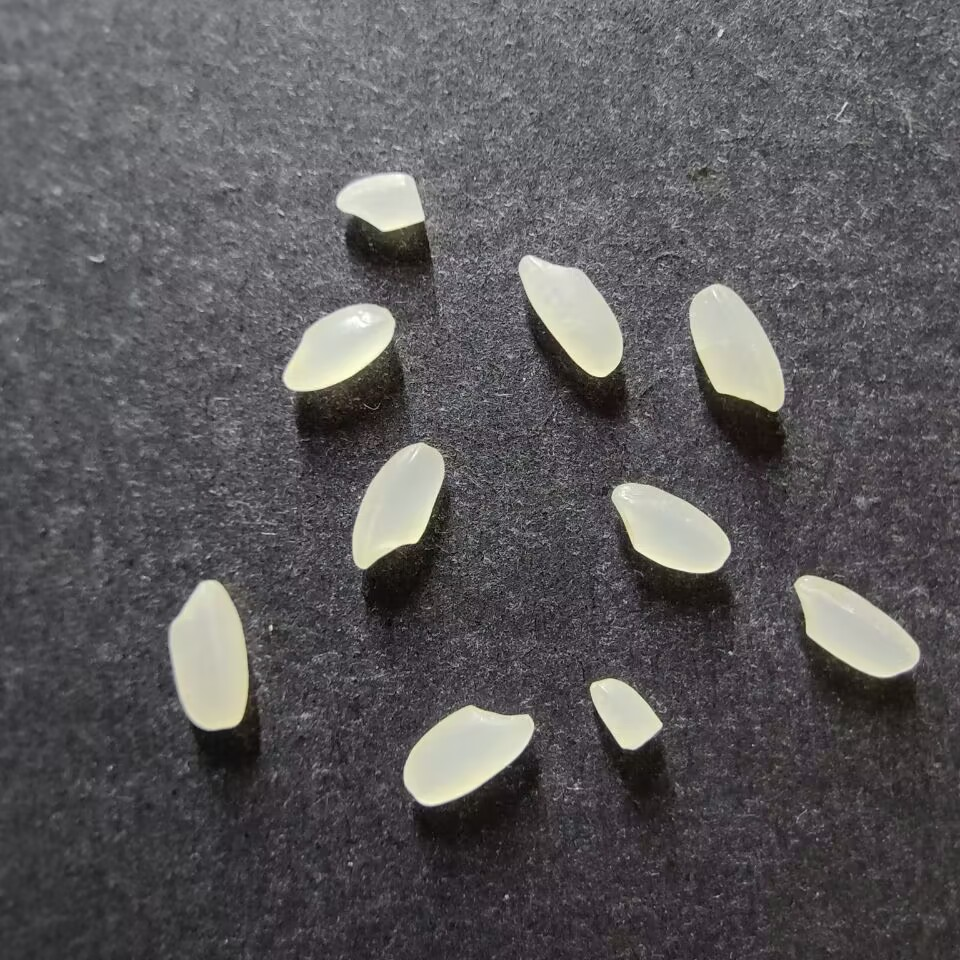broken: (589, 677, 664, 751), (335, 172, 423, 232)
rice: (402, 704, 535, 807), (793, 573, 920, 678), (517, 254, 624, 378), (688, 283, 785, 412), (167, 578, 248, 730), (351, 442, 444, 569), (610, 482, 730, 574), (282, 303, 395, 392)
